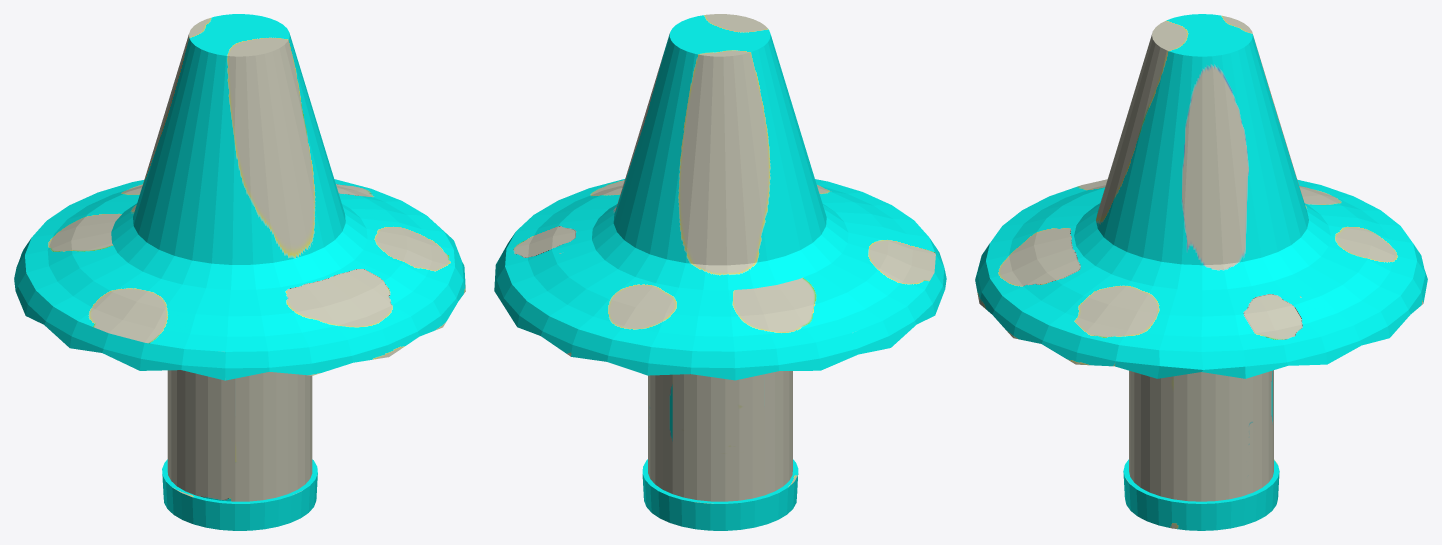
File: MushroomTrigger.fbx
3 views of the same model, side by side, from view 1: azimuth 30°, elevation 25°; view 2: azimuth 150°, elevation 25°; view 3: azimuth 270°, elevation 25° (orthographic).
Parts seen in each view (by area): view 1: Cylinder; view 2: Cylinder; view 3: Cylinder.
Part boxes in pixels (box(x1,y1,x2,y2)): Cylinder: box(14, 14, 465, 530); Cylinder: box(494, 14, 946, 530); Cylinder: box(975, 14, 1427, 530).
Size of the model in its own units: 308 by 347 by 307.
